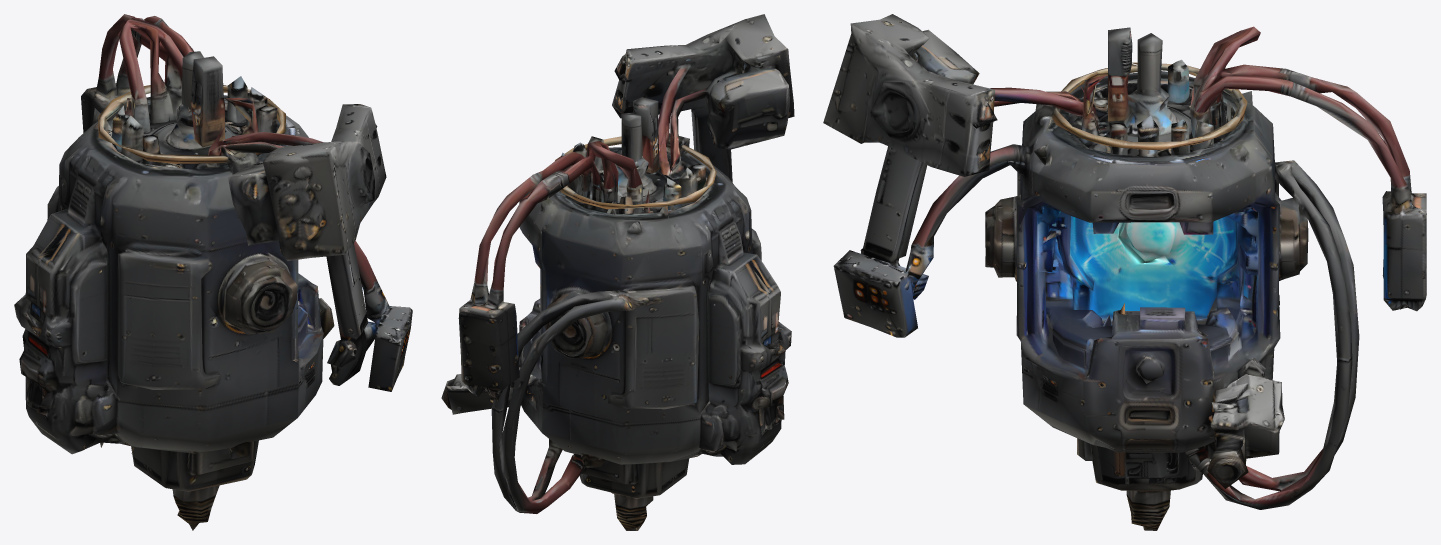
Rendered from fuenteDeEnergia.obj.
3 renders of one model, left to right at view 1: azimuth 30°, elevation 25°; view 2: azimuth 150°, elevation 25°; view 3: azimuth 270°, elevation 25°, orthographic. The views are drawn at different scales.
Parts seen in each view (by area): view 1: tripo_node_d3486f24-4ac7-4ed5-9481-0347a2c0bc6c; view 2: tripo_node_d3486f24-4ac7-4ed5-9481-0347a2c0bc6c; view 3: tripo_node_d3486f24-4ac7-4ed5-9481-0347a2c0bc6c.
Boxes of the visible parts, x1,y1,x2,y2 form: tripo_node_d3486f24-4ac7-4ed5-9481-0347a2c0bc6c: (14, 14, 412, 530); tripo_node_d3486f24-4ac7-4ed5-9481-0347a2c0bc6c: (441, 14, 794, 530); tripo_node_d3486f24-4ac7-4ed5-9481-0347a2c0bc6c: (823, 14, 1426, 530).
Bounding box in the file's own units: 0.6746 × 0.912 × 0.9872.
1 material, 1 textured.
